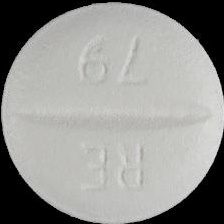63304-579: (0, 0, 224, 224)
